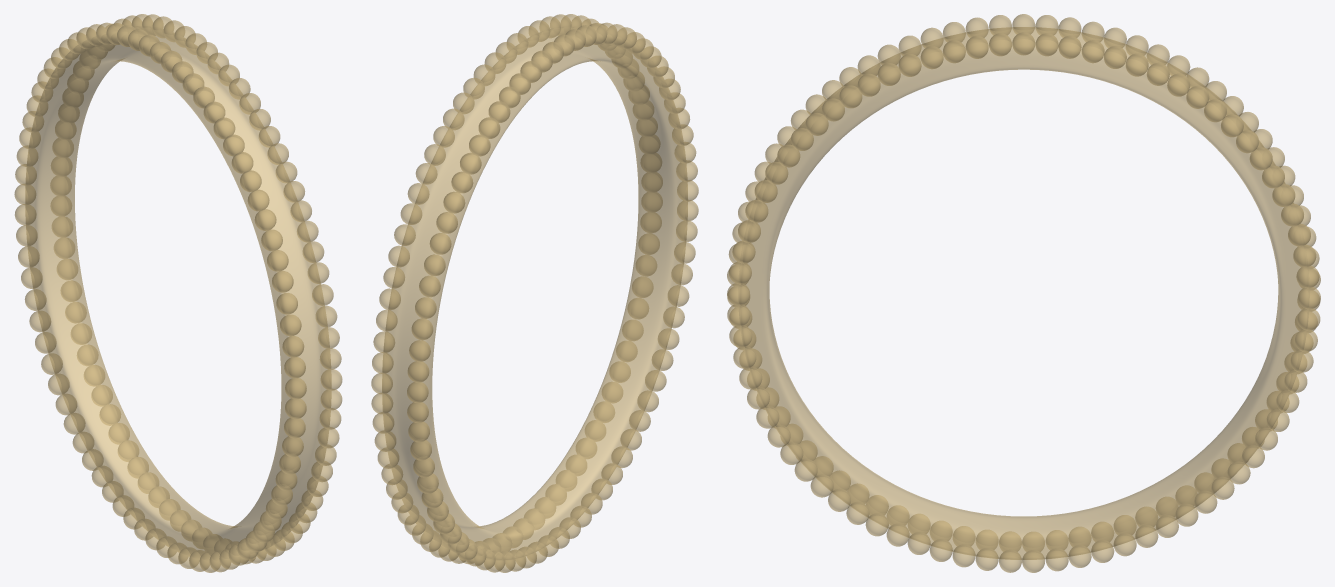
The picture shows the model from 3 angles, left to right: view 1: azimuth 30°, elevation 25°; view 2: azimuth 150°, elevation 25°; view 3: azimuth 270°, elevation 25°; orthographic projection. The views are drawn at different scales.
Visible parts, largest first — view 1: ring; view 2: ring; view 3: ring.
Boxes of the visible parts, box(x1,y1,x2,y2) form: ring: box(14, 14, 342, 572); ring: box(371, 14, 698, 572); ring: box(727, 14, 1320, 572).
Size of the model in its own units: 0.2706 by 2.4 by 2.4.
